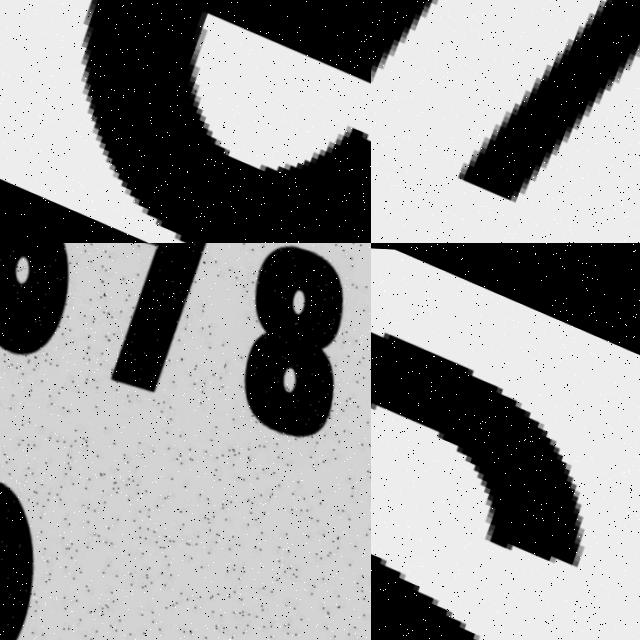0: (0, 438, 101, 640)
6: (0, 243, 137, 384)
7: (47, 243, 266, 433)
8: (177, 243, 371, 463)
9: (307, 243, 371, 522)
M: (371, 0, 640, 243)
S: (371, 243, 640, 640)
